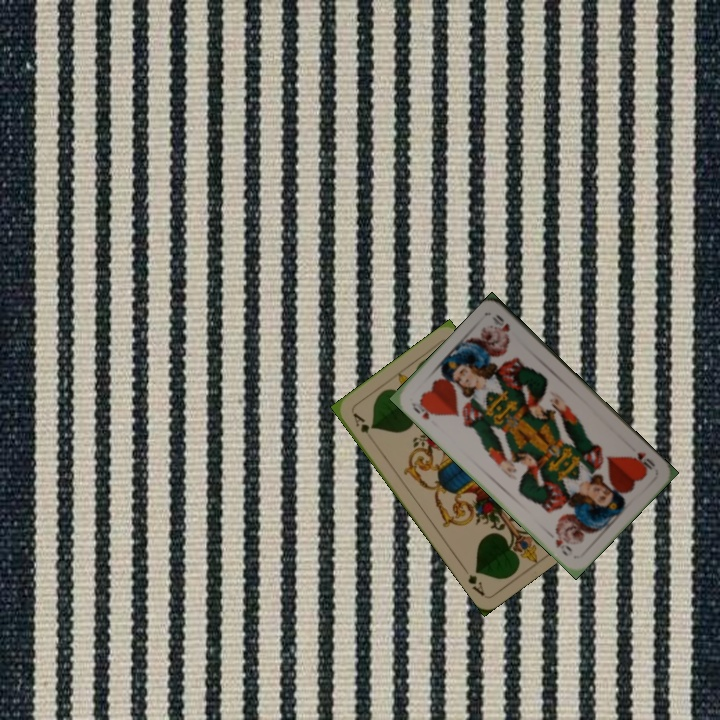GA: (349, 409, 377, 444)
HO: (407, 396, 439, 422), (630, 448, 658, 473)
